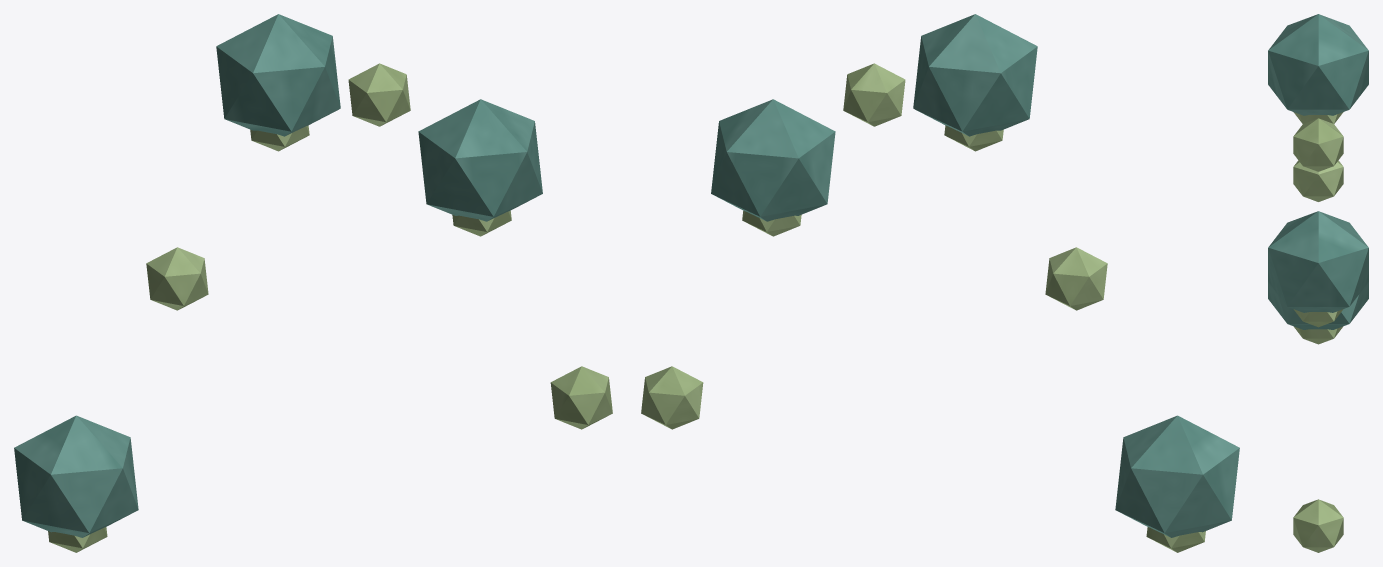
The model's file is sm_flora_creepvine.glb.
The picture shows the model from 3 angles, left to right: view 1: azimuth 30°, elevation 25°; view 2: azimuth 150°, elevation 25°; view 3: azimuth 270°, elevation 25°; orthographic projection. The views are drawn at different scales.
Visible parts, largest first — view 1: sm_flora_creepvine; view 2: sm_flora_creepvine; view 3: sm_flora_creepvine.
Part boxes in pixels (x1,y1,x2,y2): sm_flora_creepvine: (14, 14, 612, 552); sm_flora_creepvine: (641, 14, 1239, 552); sm_flora_creepvine: (1268, 14, 1368, 552).
Size of the model in its own units: 0.5805 by 0.4629 by 0.1021.
Materials: 1 (1 with a texture image).
